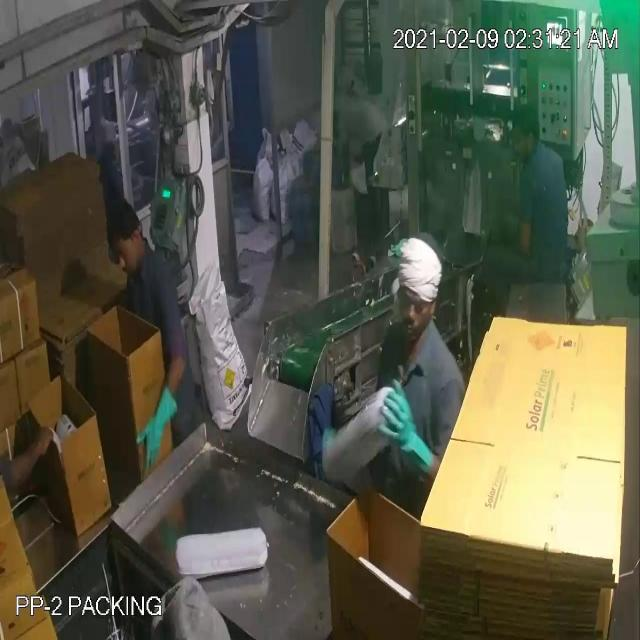Gloves: (33, 114, 405, 454)
